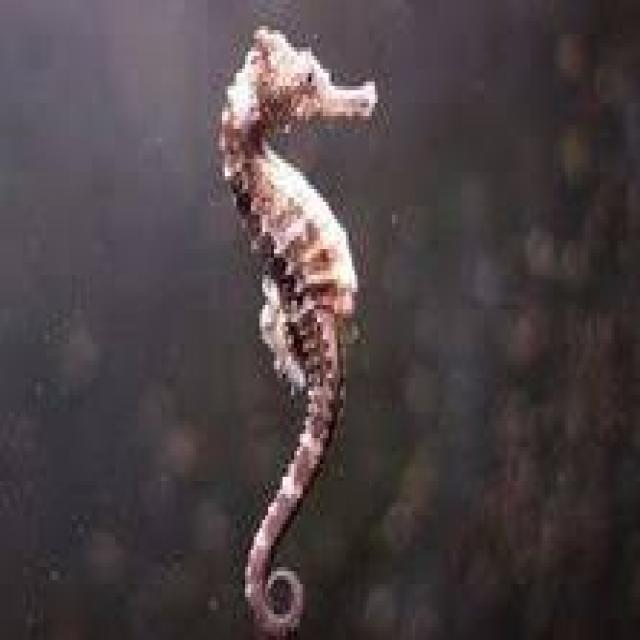SeaHorse: (214, 26, 378, 640)
